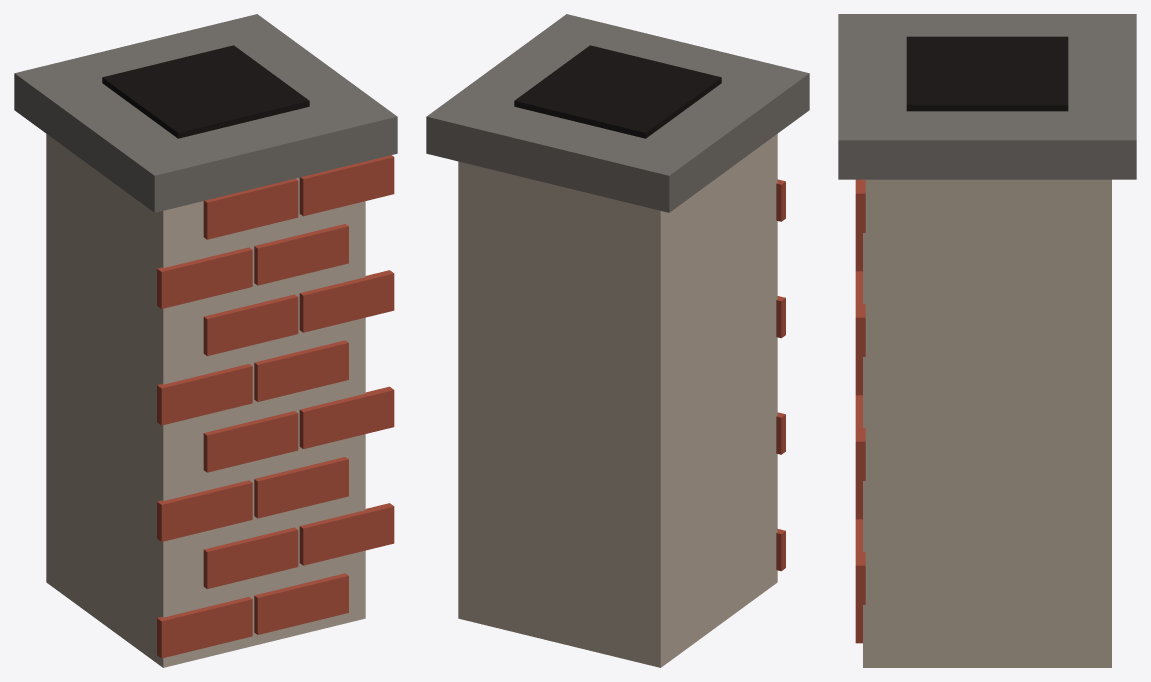
Rendered from Chimney.fbx.
3 renders of one model, left to right at view 1: azimuth 30°, elevation 25°; view 2: azimuth 150°, elevation 25°; view 3: azimuth 270°, elevation 25°, orthographic. The views are drawn at different scales.
Visible parts, largest first — view 1: Mortar, Brick, Cap, Hole; view 2: Mortar, Cap, Hole, Brick; view 3: Mortar, Cap, Hole, Brick.
Boxes of the visible parts, x1=… form: Mortar: x1=46, y1=134, x2=365, y2=667; Brick: x1=157, y1=155, x2=394, y2=658; Cap: x1=14, y1=14, x2=397, y2=212; Hole: x1=102, y1=45, x2=309, y2=138; Mortar: x1=458, y1=134, x2=777, y2=667; Cap: x1=426, y1=14, x2=809, y2=212; Hole: x1=514, y1=45, x2=721, y2=138; Brick: x1=776, y1=179, x2=785, y2=571; Mortar: x1=863, y1=179, x2=1111, y2=667; Cap: x1=838, y1=14, x2=1136, y2=179; Hole: x1=906, y1=36, x2=1068, y2=111; Brick: x1=855, y1=179, x2=865, y2=643.
Bounding box in the file's own units: 2.45 × 4.83 × 2.4.
